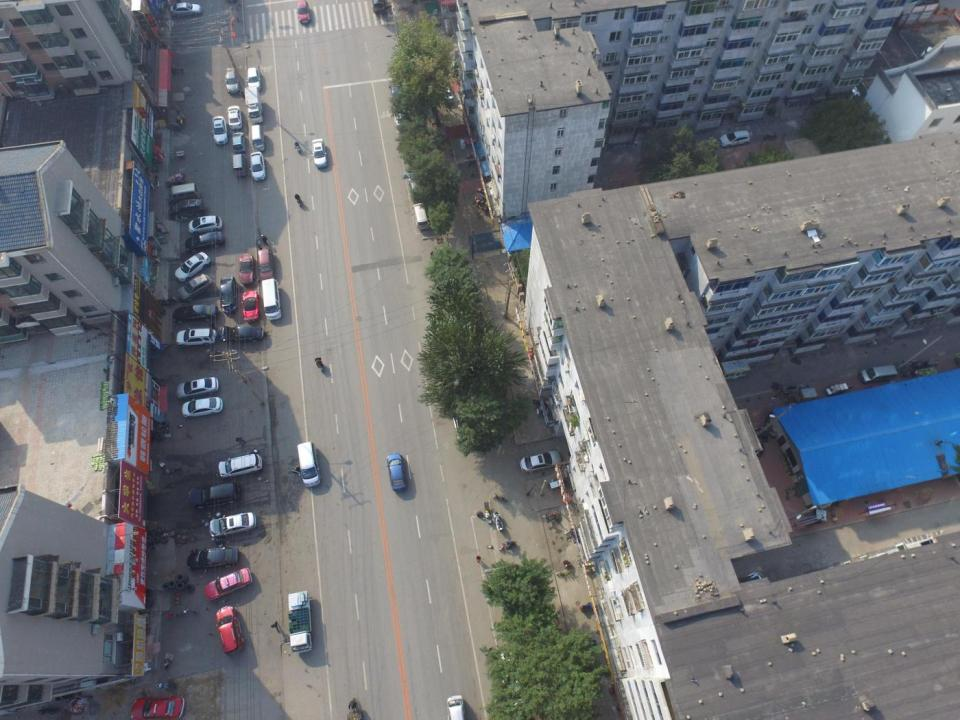car: (204, 566, 252, 600), (214, 605, 244, 656), (189, 482, 242, 510), (186, 546, 240, 571), (131, 696, 184, 720), (209, 511, 257, 537), (174, 250, 211, 283), (518, 449, 562, 474), (176, 376, 219, 400), (181, 396, 224, 419), (178, 273, 212, 302), (172, 303, 218, 324), (176, 326, 218, 349), (220, 325, 264, 345), (184, 231, 225, 252), (386, 452, 407, 492), (219, 275, 238, 315), (168, 197, 204, 218), (187, 214, 223, 233), (241, 290, 261, 323), (718, 130, 751, 148), (238, 253, 255, 286), (210, 115, 228, 146), (249, 150, 266, 182), (311, 138, 328, 169), (446, 694, 465, 720), (169, 2, 202, 16), (226, 105, 243, 130), (246, 67, 262, 93), (225, 67, 240, 94), (388, 80, 403, 105), (296, 0, 310, 25), (231, 132, 246, 154)
truck: (286, 589, 314, 654), (244, 85, 263, 124)
van: (292, 440, 322, 488), (218, 453, 263, 479), (261, 278, 283, 320), (858, 363, 899, 384), (256, 248, 276, 281), (168, 182, 199, 202), (412, 202, 429, 230), (250, 124, 266, 153), (231, 152, 246, 179)
